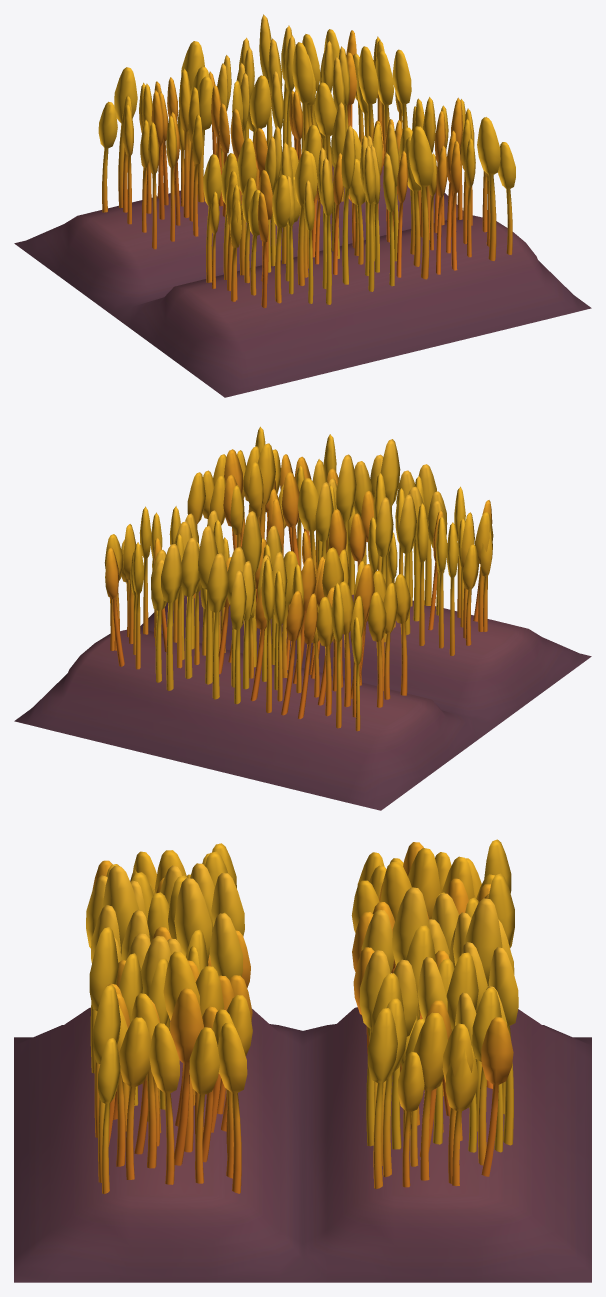
The model's file is Farm_Wheat.obj.
The picture shows the model from 3 angles, top to bottom: view 1: azimuth 30°, elevation 25°; view 2: azimuth 150°, elevation 25°; view 3: azimuth 270°, elevation 25°; orthographic projection. The views are drawn at different scales.
Visible parts, largest first — view 1: {mesh}Farm_Wheat_Plane.008; view 2: {mesh}Farm_Wheat_Plane.008; view 3: {mesh}Farm_Wheat_Plane.008.
Boxes of the visible parts, x1,y1,x2,y2 form: {mesh}Farm_Wheat_Plane.008: (14, 14, 591, 397); {mesh}Farm_Wheat_Plane.008: (14, 426, 591, 810); {mesh}Farm_Wheat_Plane.008: (14, 839, 591, 1282).
Size of the model in its own units: 100 by 53.31 by 99.57.
1 material, 1 textured.
